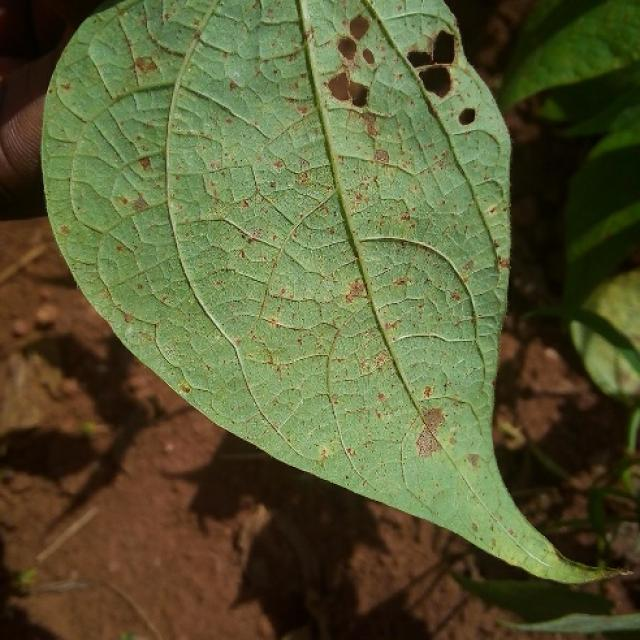mozaik: (314, 0, 516, 140)
